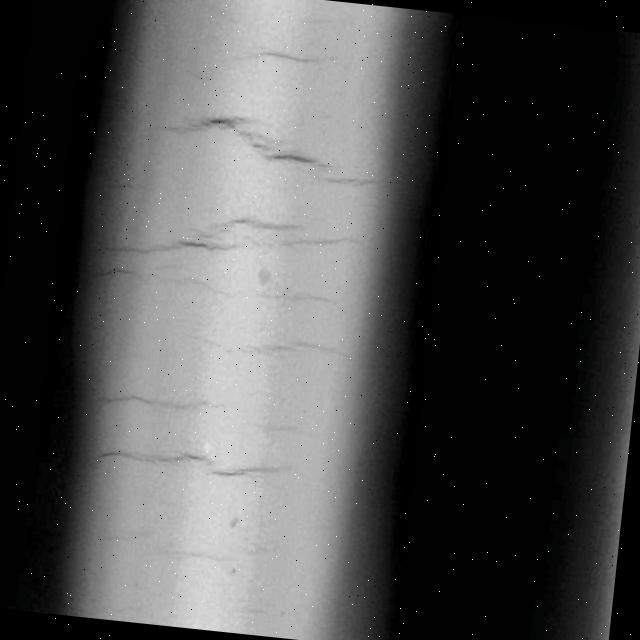Crack: (97, 185, 383, 282), (136, 94, 397, 198), (93, 246, 355, 326), (90, 502, 304, 596), (90, 366, 329, 448), (89, 423, 303, 510), (185, 313, 372, 386), (194, 22, 358, 88)
